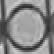no answer: (6, 5, 48, 51)
